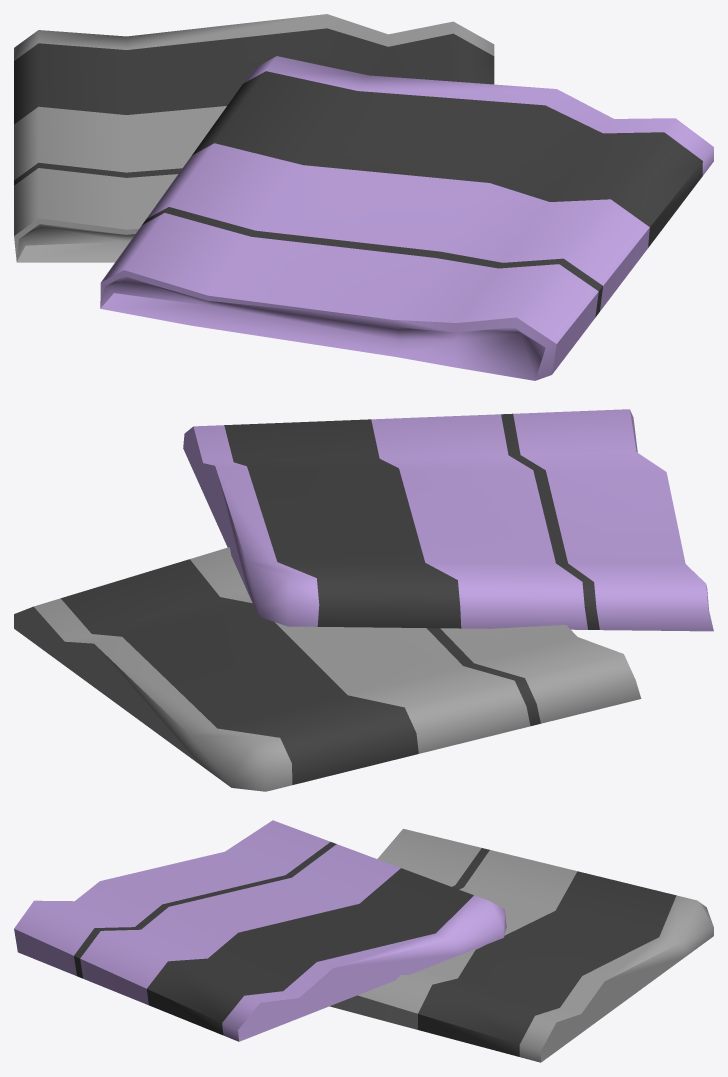
File: clothes_002.glb
3 renders of one model, top to bottom at view 1: azimuth 30°, elevation 25°; view 2: azimuth 150°, elevation 25°; view 3: azimuth 270°, elevation 25°, orthographic. The views are drawn at different scales.
Parts seen in each view (by area): view 1: clothes_002; view 2: clothes_002; view 3: clothes_002.
Boxes of the visible parts, box(x1,y1,x2,y2) form: clothes_002: box(14, 14, 713, 380); clothes_002: box(14, 409, 713, 791); clothes_002: box(14, 820, 713, 1062).
Size of the model in its own units: 0.5952 by 0.087 by 0.8055.
Materials: 1 (1 with a texture image).
